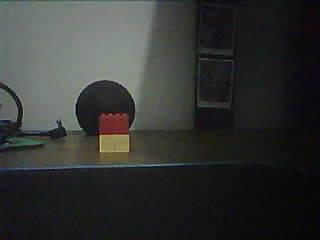lego: (98, 112, 130, 153)
